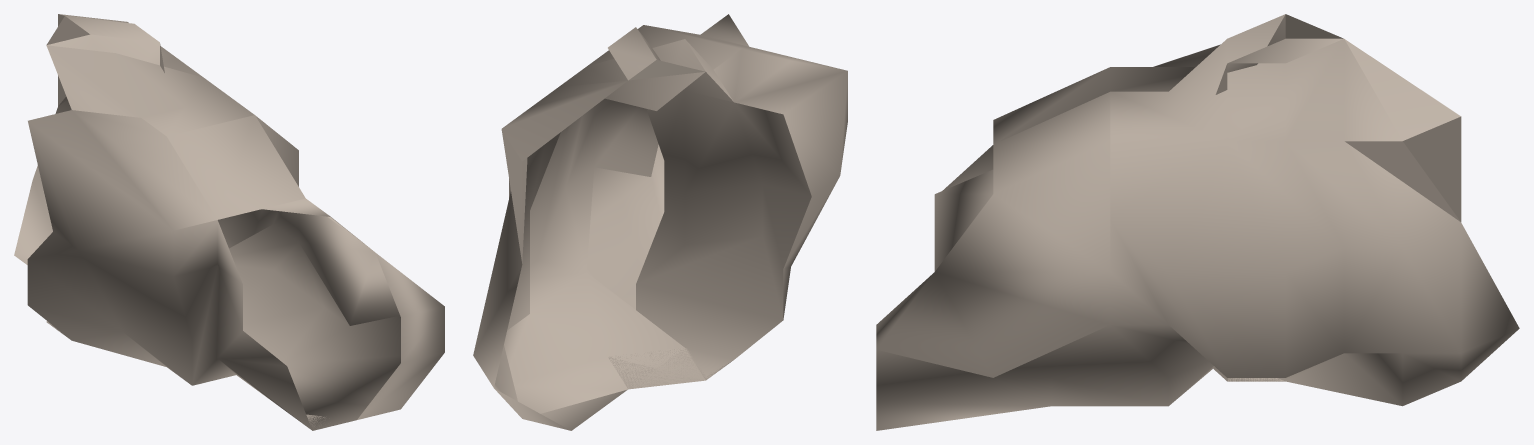
The model's file is m_jet_9e04b8b8.glb.
3 views of the same model, side by side, from view 1: azimuth 30°, elevation 25°; view 2: azimuth 150°, elevation 25°; view 3: azimuth 270°, elevation 25° (orthographic). The views are drawn at different scales.
Parts seen in each view (by area): view 1: mesh; view 2: mesh; view 3: mesh.
Part boxes in pixels (<box>): mesh: <box>14,14,444,430</box>; mesh: <box>473,14,847,430</box>; mesh: <box>876,14,1519,430</box>.
Bounding box in the file's own units: 6 × 6 × 11.
